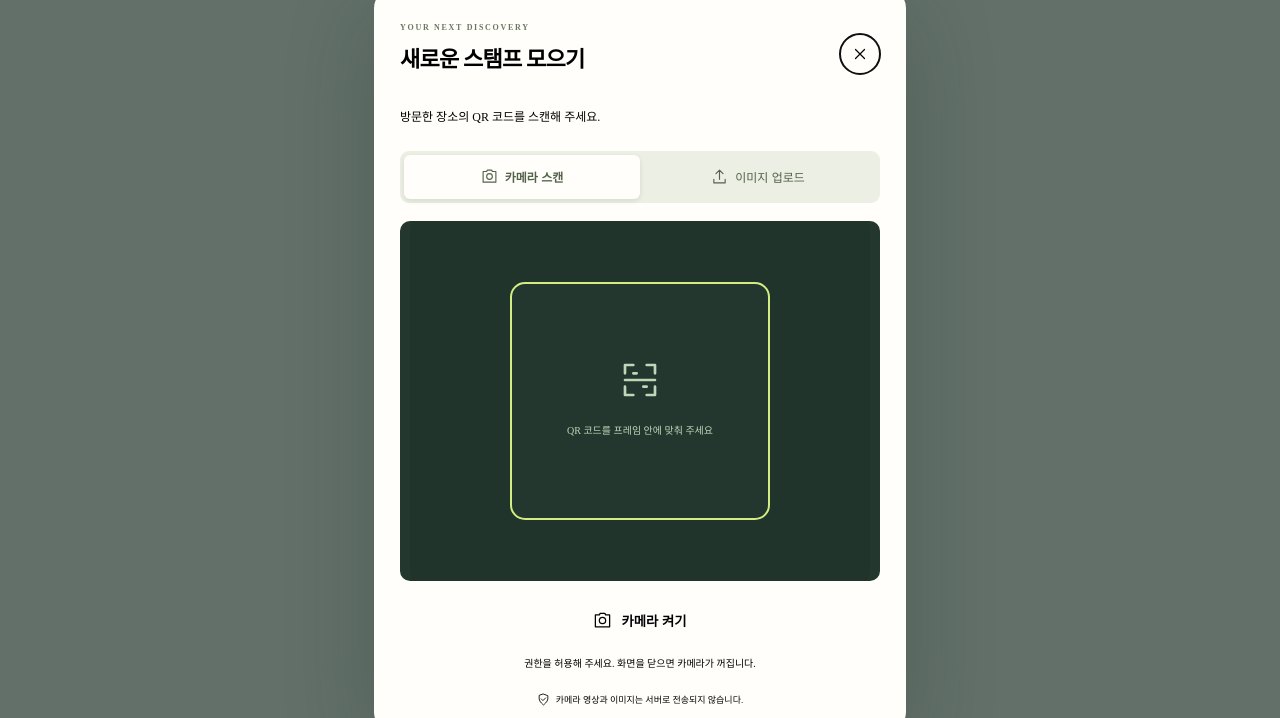
provides camera failure guidance and keeps image upload available
The image size is (1280, 718).
Click the button "카메라 켜기" at x=640, y=621, box x1=400 y1=597 x2=880 y2=645
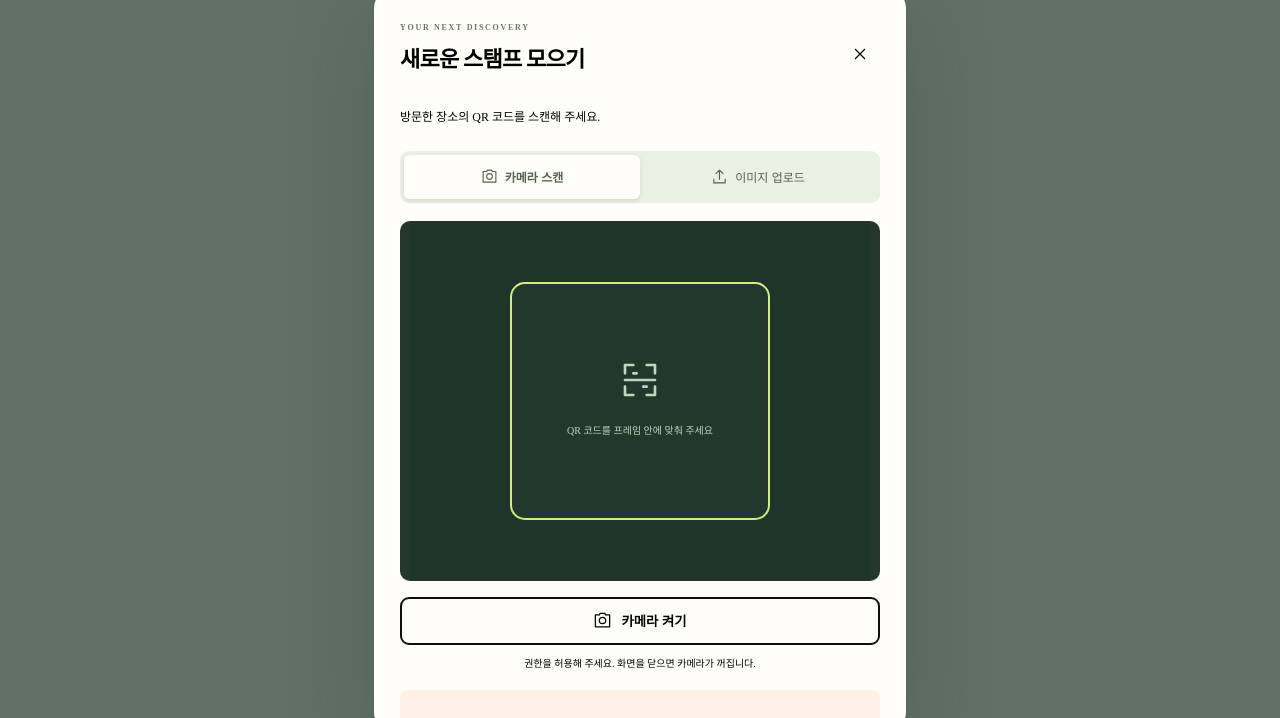
Click the button "이미지 업로드" at x=758, y=177, box x1=640 y1=155 x2=876 y2=199
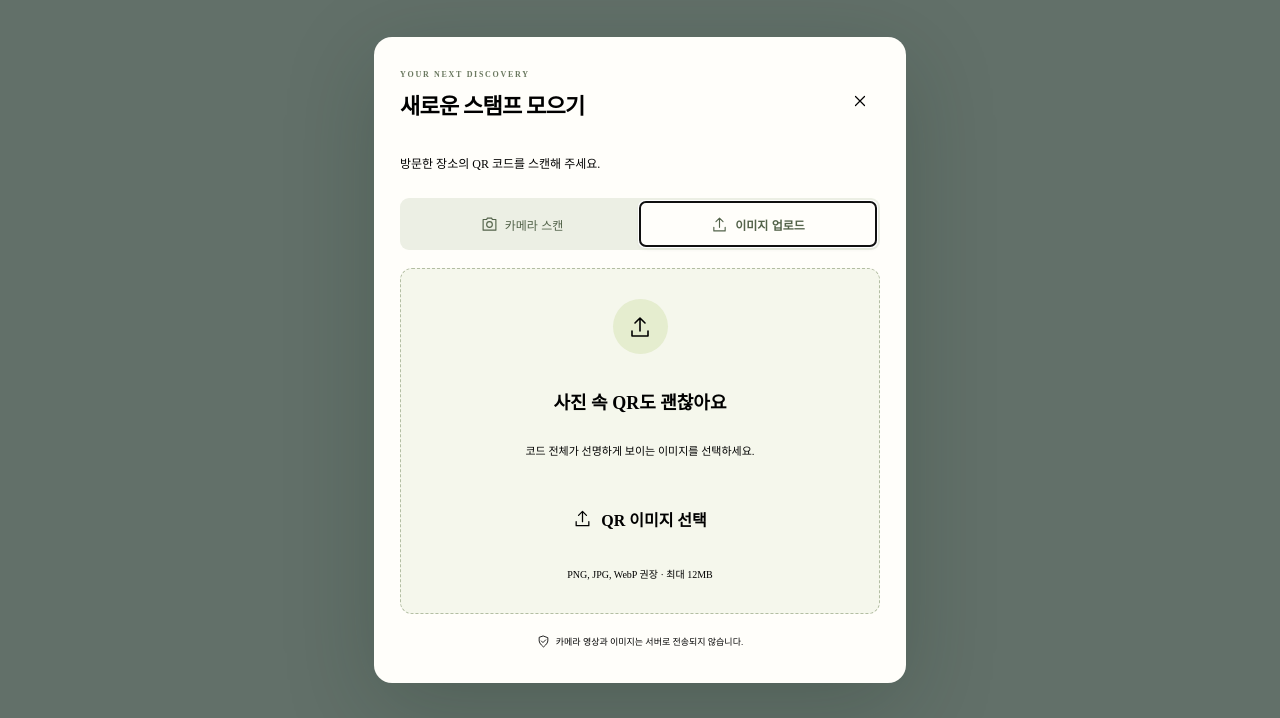
Now the file field labelled "QR 이미지 선택" is enabled, box x1=573 y1=509 x2=707 y2=529
